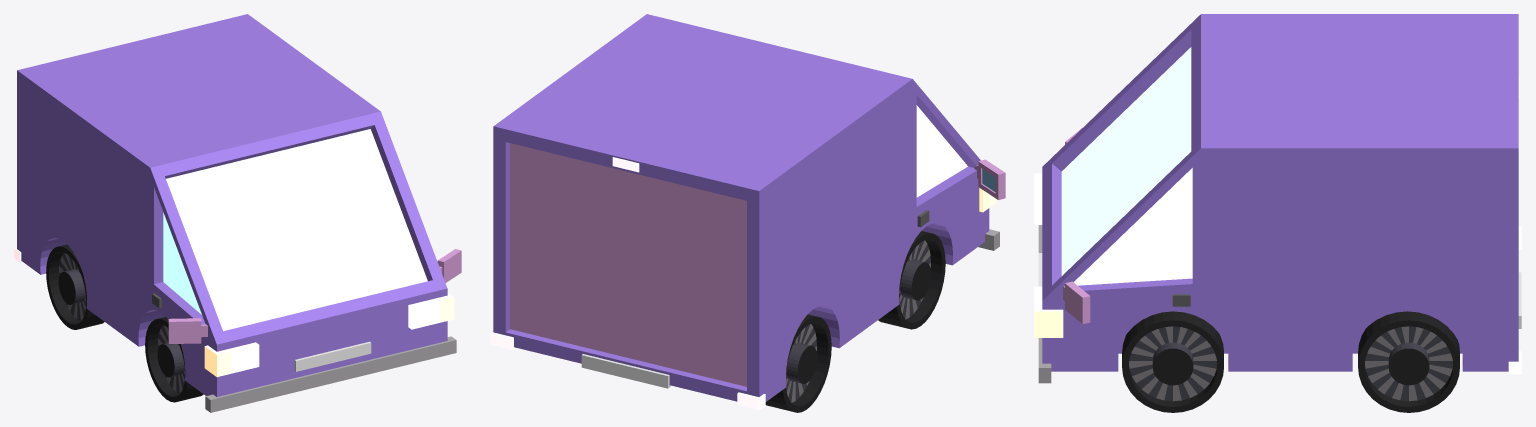
The model's file is van.gltf.
The picture shows the model from 3 angles, left to right: view 1: azimuth 30°, elevation 25°; view 2: azimuth 150°, elevation 25°; view 3: azimuth 270°, elevation 25°; orthographic projection. The views are drawn at different scales.
Visible parts, largest first — view 1: car, car_window, car_yellow, car_orange; view 2: car, car_window, carRedLight; view 3: car, car_window, car_orange, car_yellow.
Part boxes in pixels (<box>): car: <box>17,14,461,412</box>; car_window: <box>163,129,427,331</box>; car_yellow: <box>228,298,439,373</box>; car_orange: <box>204,292,454,376</box>; car: <box>493,14,1005,412</box>; car_window: <box>916,105,967,197</box>; carRedLight: <box>490,157,765,409</box>; car: <box>1038,14,1521,412</box>; car_window: <box>1061,47,1192,285</box>; car_orange: <box>1034,173,1063,337</box>; car_yellow: <box>1034,181,1042,303</box>.
Size of the model in its own units: 2.38 by 1.74 by 2.88.
5 materials, 1 textured.
